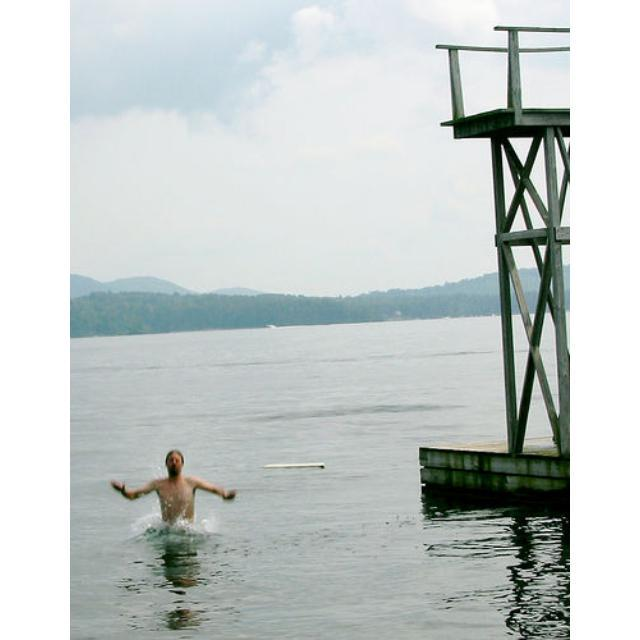human: (109, 450, 235, 531)
